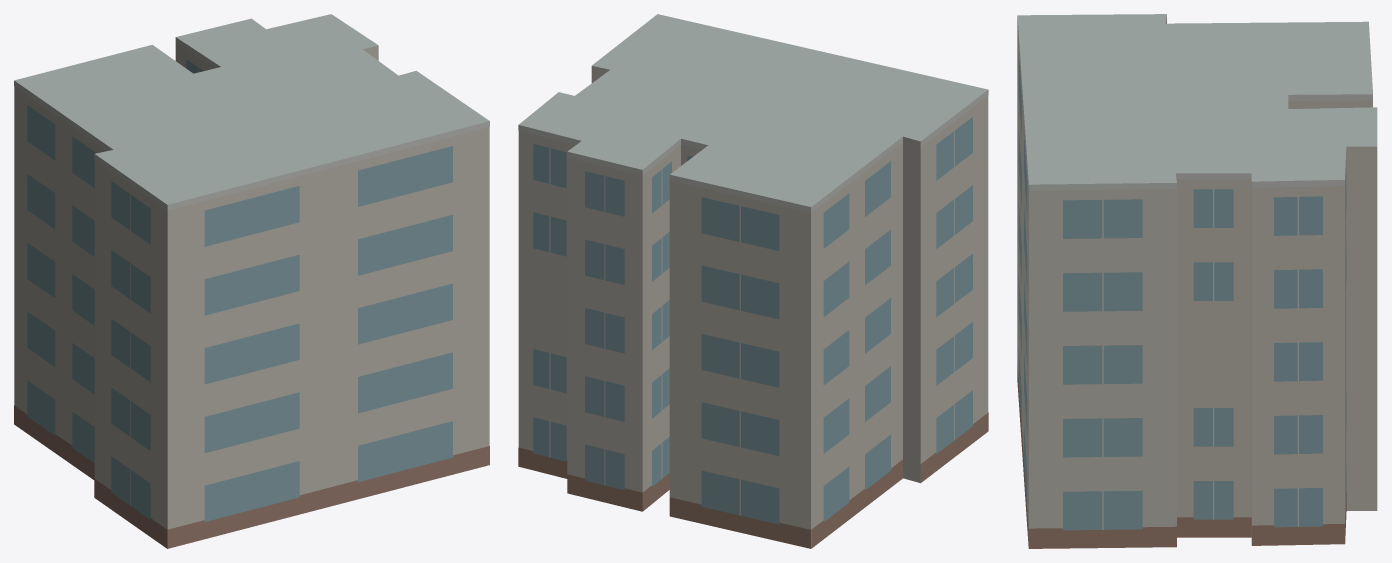
File: survey-upis-32504154.glb
The picture shows the model from 3 angles, left to right: view 1: azimuth 30°, elevation 25°; view 2: azimuth 150°, elevation 25°; view 3: azimuth 270°, elevation 25°; orthographic projection. The views are drawn at different scales.
Parts seen in each view (by area): view 1: survey-upis-32504154.tmp; view 2: survey-upis-32504154.tmp; view 3: survey-upis-32504154.tmp.
Boxes of the visible parts, box(x1,y1,x2,y2) form: survey-upis-32504154.tmp: box(14, 14, 489, 548); survey-upis-32504154.tmp: box(518, 14, 988, 548); survey-upis-32504154.tmp: box(1017, 14, 1377, 548).
Size of the model in its own units: 14.47 by 14.4 by 12.91.
